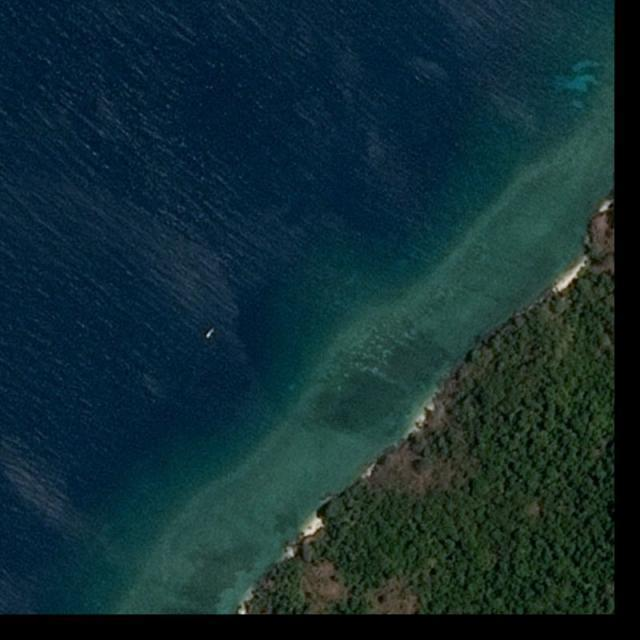ship: (206, 329, 215, 339)
